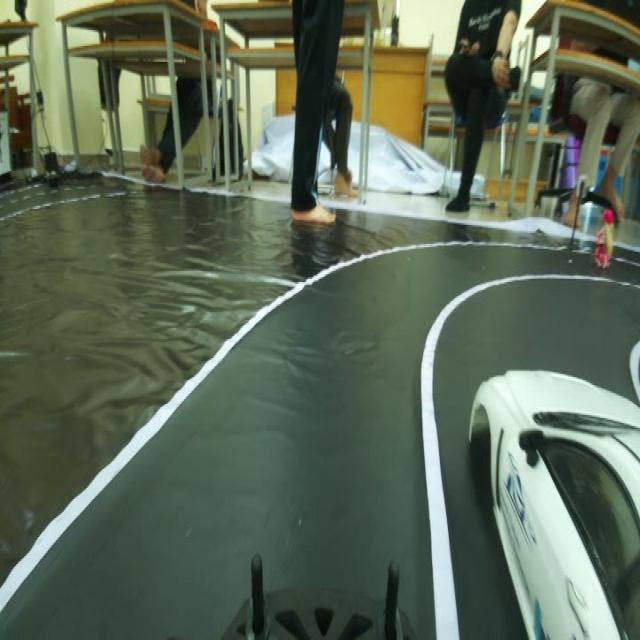car: (465, 345, 640, 640)
